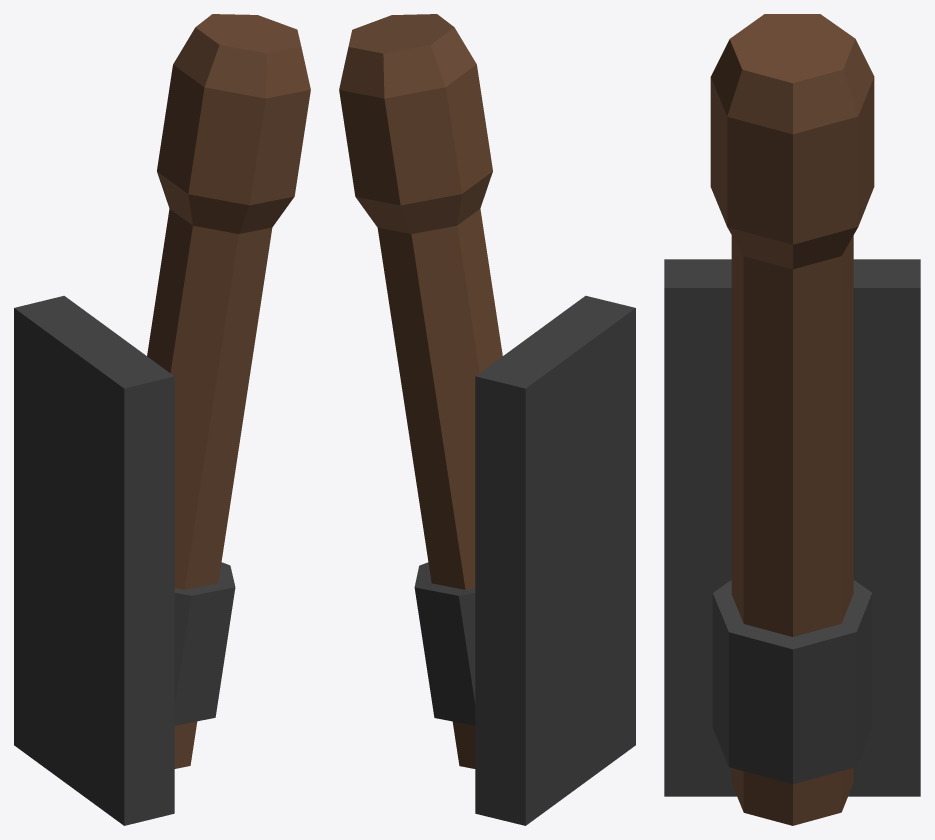
File: Torch_wall.fbx
The picture shows the model from 3 angles, left to right: view 1: azimuth 30°, elevation 25°; view 2: azimuth 150°, elevation 25°; view 3: azimuth 270°, elevation 25°; orthographic projection. The views are drawn at different scales.
Parts seen in each view (by area): view 1: Pochodnia; view 2: Pochodnia; view 3: Pochodnia.
Boxes of the visible parts, x1,y1,x2,y2 form: Pochodnia: (14,14,310,825); Pochodnia: (339,14,635,825); Pochodnia: (664,14,920,825).
Size of the model in its own units: 13.53 by 39.1 by 10.91.
Materials: 1 (1 with a texture image).
